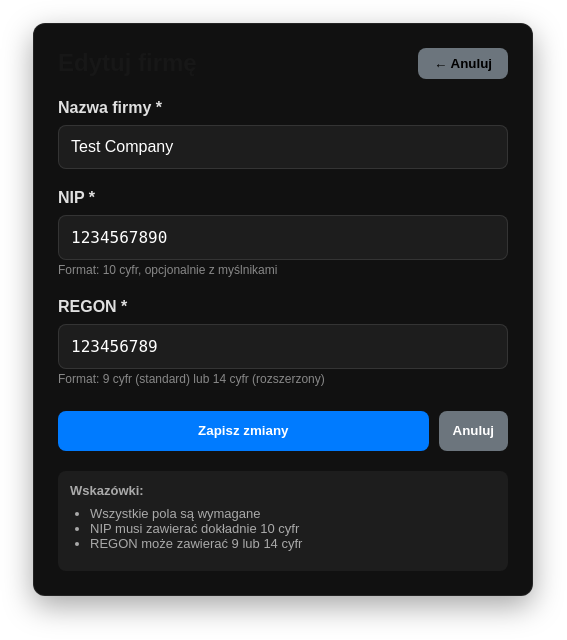
EditCompanyForm › Interakcje użytkownika › powinien dezaktywować przyciski podczas ładowania
The width and height of the screenshot is (567, 640).
Step 1. Click the button "Zapisz zmiany" → (243, 430), box top-left (58, 410), bottom-right (428, 450)
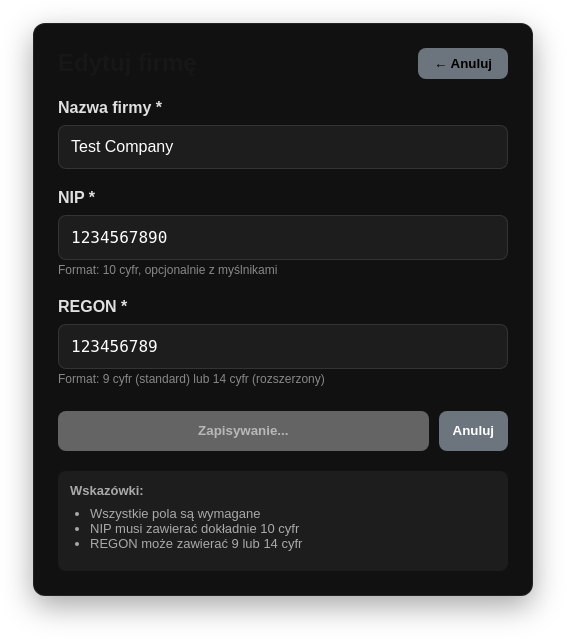
Expected: the button "Zapisywanie..." is disabled, top-left (58, 410), bottom-right (428, 450)
